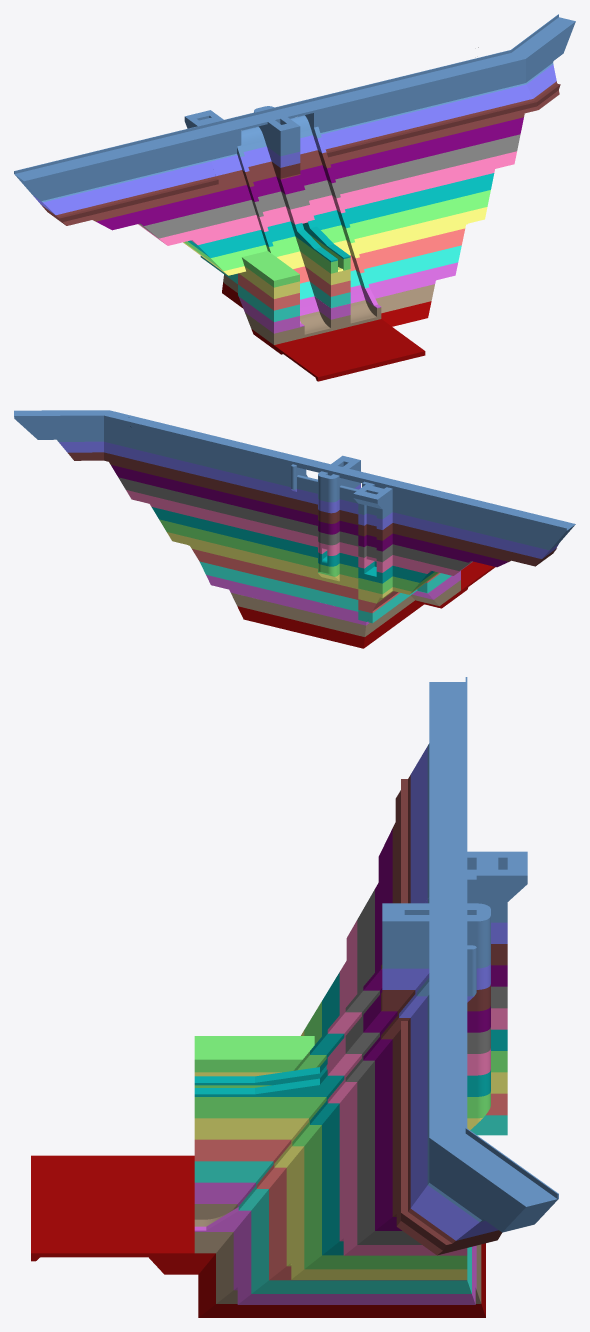
The model's file is daba.glb.
3 views of the same model, one above another, from view 1: azimuth 30°, elevation 25°; view 2: azimuth 150°, elevation 25°; view 3: azimuth 270°, elevation 25° (orthographic). The views are drawn at different scales.
Visible parts, largest first — view 1: 重力大坝分层模型 [344339]; view 2: 重力大坝分层模型 [344339]; view 3: 重力大坝分层模型 [344339].
Part boxes in pixels (left/top/right/bottom): 重力大坝分层模型 [344339]: left=14, top=14, right=575, bottom=381; 重力大坝分层模型 [344339]: left=14, top=410, right=575, bottom=648; 重力大坝分层模型 [344339]: left=31, top=677, right=558, bottom=1317.
Bounding box in the file's own units: 263 × 80.59 × 112.
